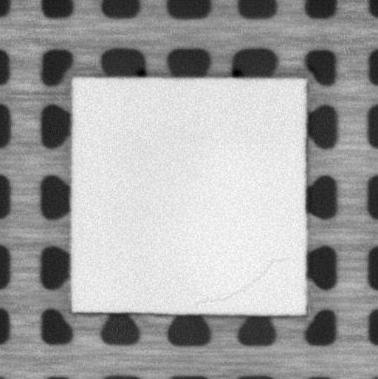DIE_CRACK: (212, 254, 290, 304)
